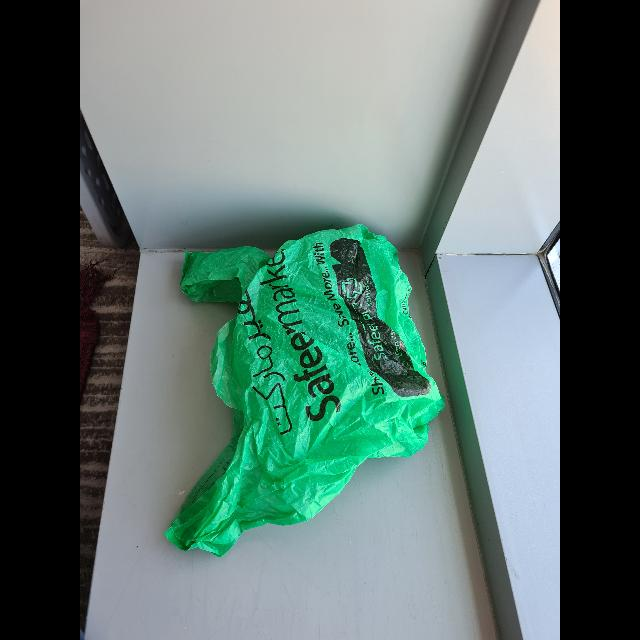plastic_bag: (168, 215, 444, 563)
